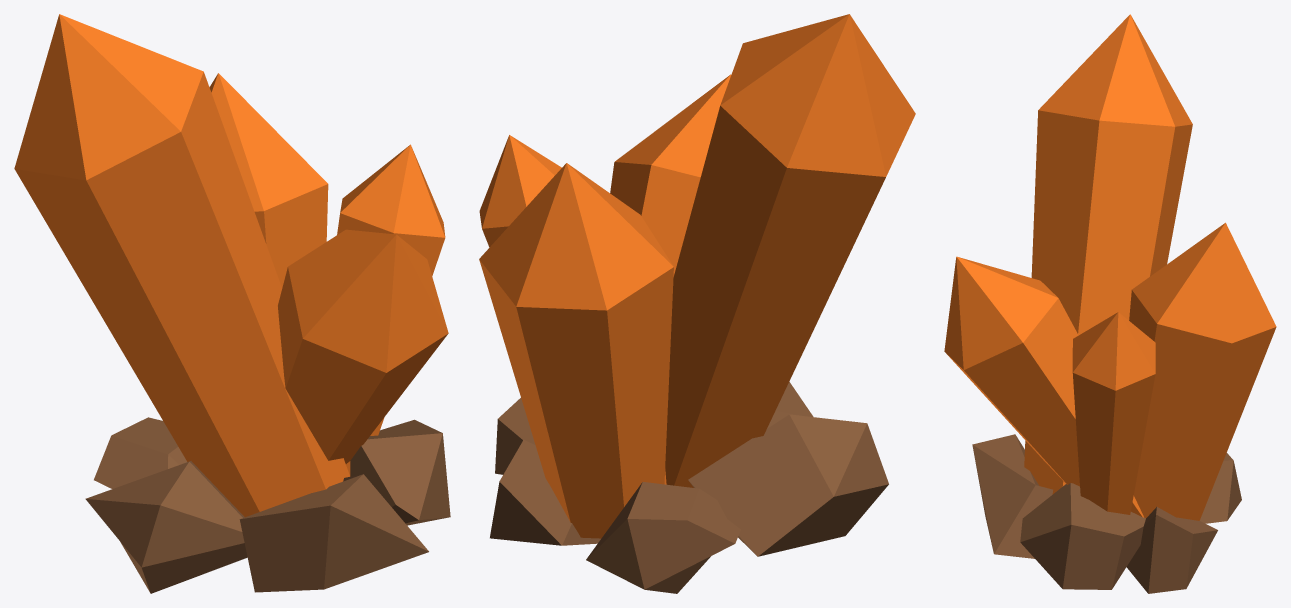
File: gems_orange.glb
3 views of the same model, side by side, from view 1: azimuth 30°, elevation 25°; view 2: azimuth 150°, elevation 25°; view 3: azimuth 270°, elevation 25° (orthographic). The views are drawn at different scales.
Visible parts, largest first — view 1: gems_orange; view 2: gems_orange; view 3: gems_orange.
Boxes of the visible parts, x1,y1,x2,y2 form: gems_orange: (14, 14, 450, 593); gems_orange: (479, 14, 915, 593); gems_orange: (944, 14, 1276, 593).
Bounding box in the file's own units: 1.1 × 1.47 × 0.9587.
1 material, 1 textured.
